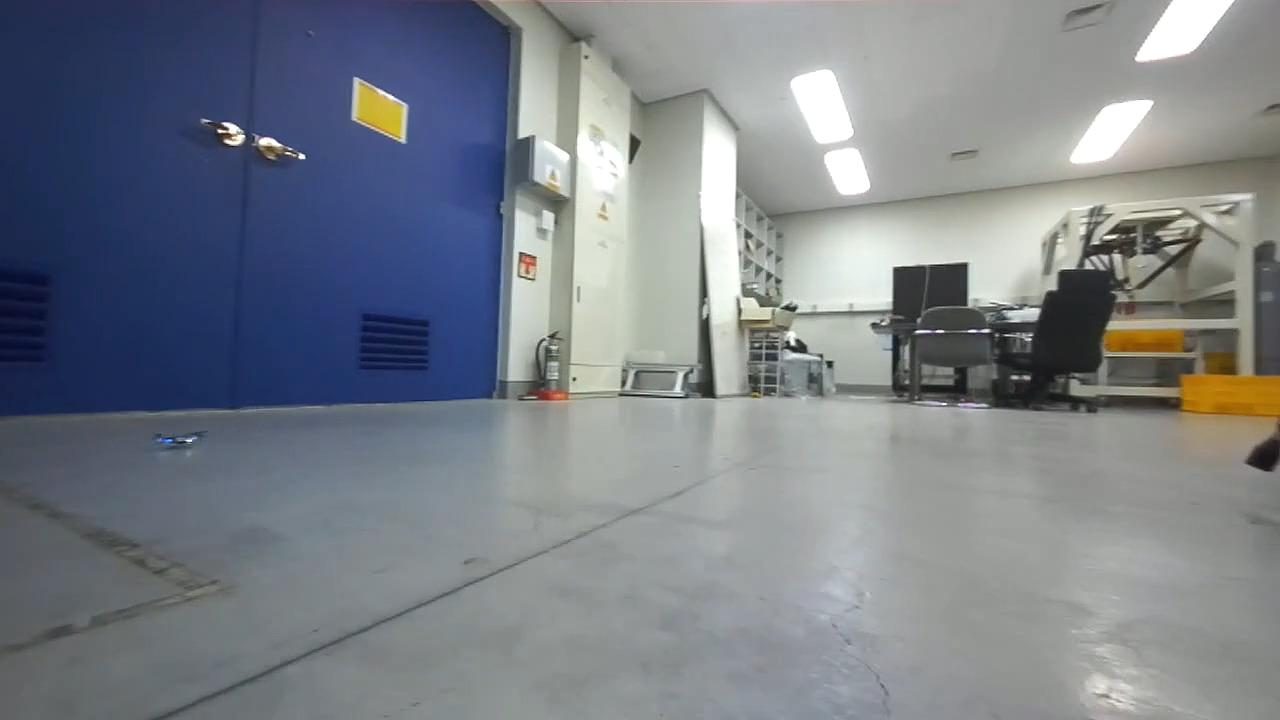crazyflie: (150, 424, 211, 454)
